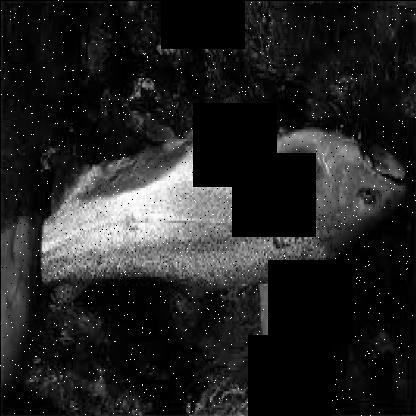fish: (3, 124, 408, 304)
